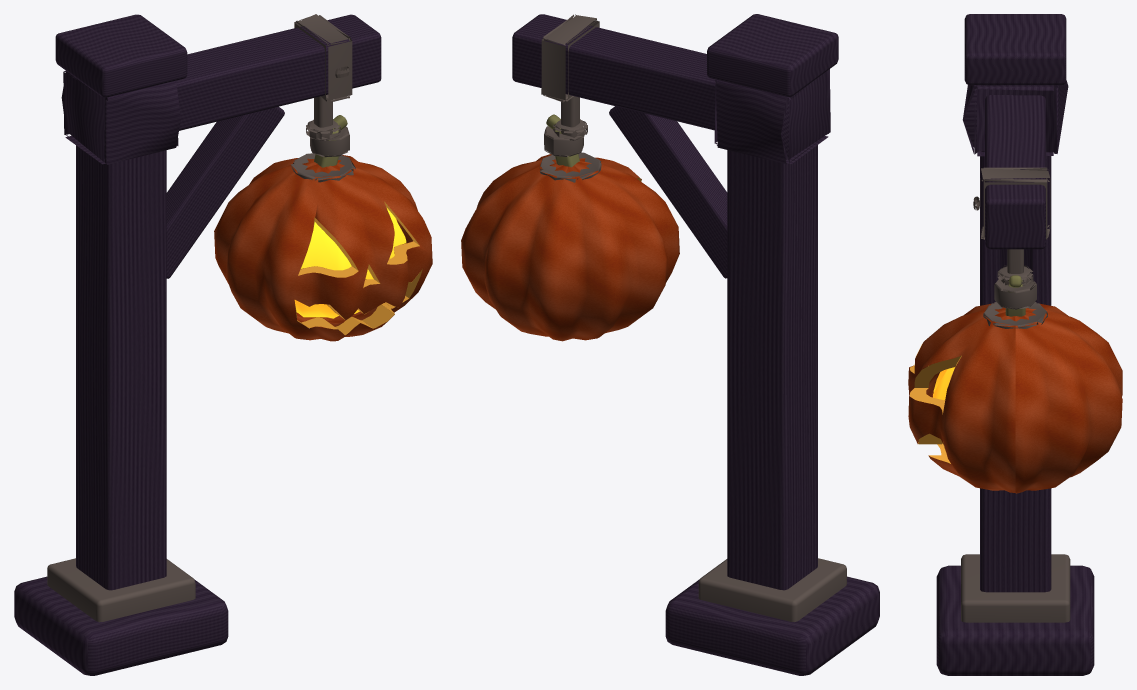
Rendered from arm.glb.
3 renders of one model, left to right at view 1: azimuth 30°, elevation 25°; view 2: azimuth 150°, elevation 25°; view 3: azimuth 270°, elevation 25°, orthographic. The views are drawn at different scales.
Visible parts, largest first — view 1: Lantern; view 2: Lantern; view 3: Lantern.
Boxes of the visible parts, <box> form: Lantern: <box>14,14,432,675</box>; Lantern: <box>461,14,879,675</box>; Lantern: <box>908,14,1122,675</box>.
Bounding box in the file's own units: 1.72 × 2.65 × 0.8433.
Materials: 6 (2 with a texture image).
